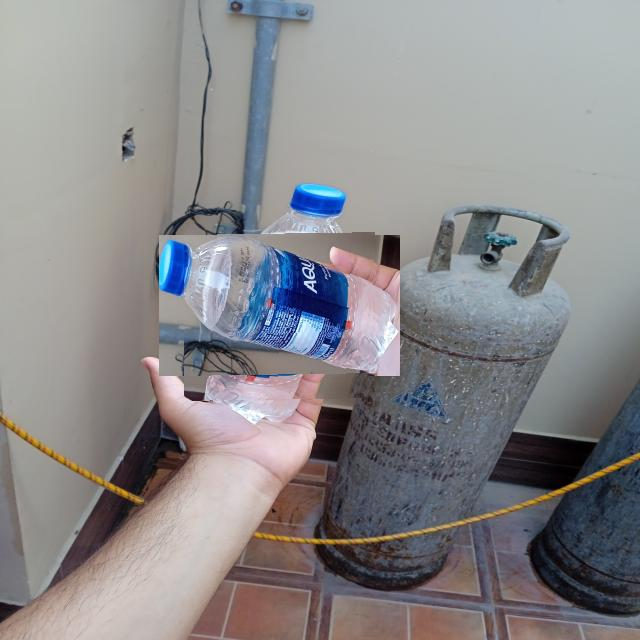Plastic: (184, 210, 376, 401)
